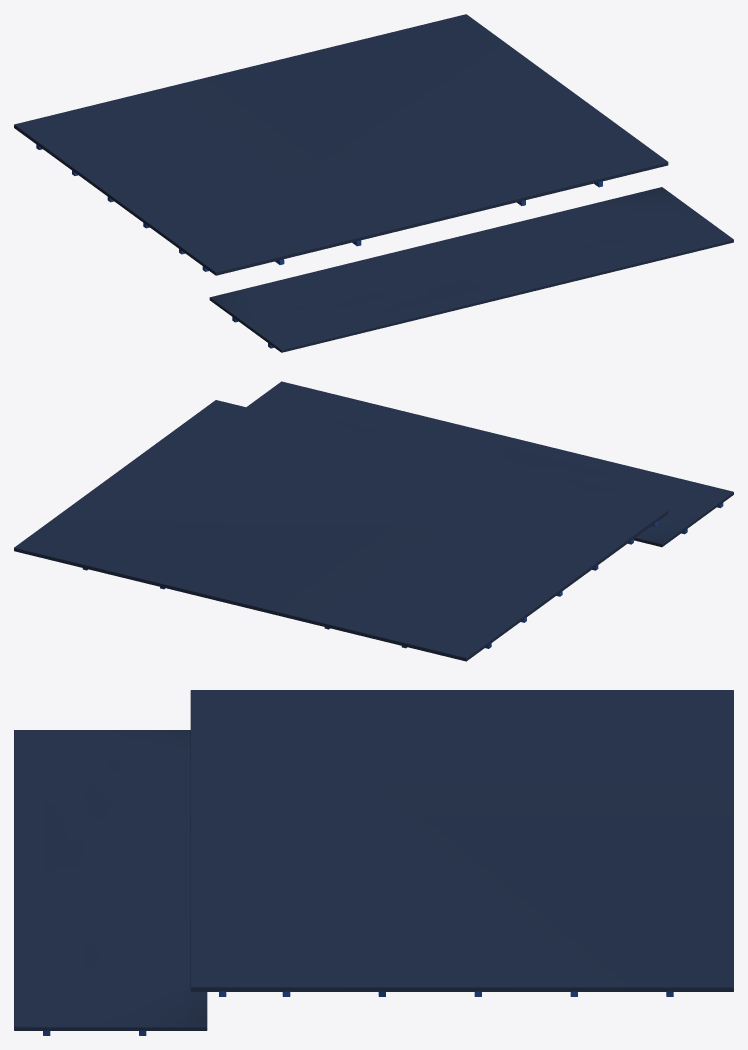
The model's file is ceiling_and_beams.glb.
The picture shows the model from 3 angles, top to bottom: view 1: azimuth 30°, elevation 25°; view 2: azimuth 150°, elevation 25°; view 3: azimuth 270°, elevation 25°; orthographic projection. The views are drawn at different scales.
Visible parts, largest first — view 1: ceiling_and_beams; view 2: ceiling_and_beams; view 3: ceiling_and_beams.
Part boxes in pixels (box(x1,y1,x2,y2)): ceiling_and_beams: box(14, 14, 733, 352); ceiling_and_beams: box(14, 381, 733, 661); ceiling_and_beams: box(14, 690, 733, 1035).
Size of the model in its own units: 44 by 3.54 by 45.05.
